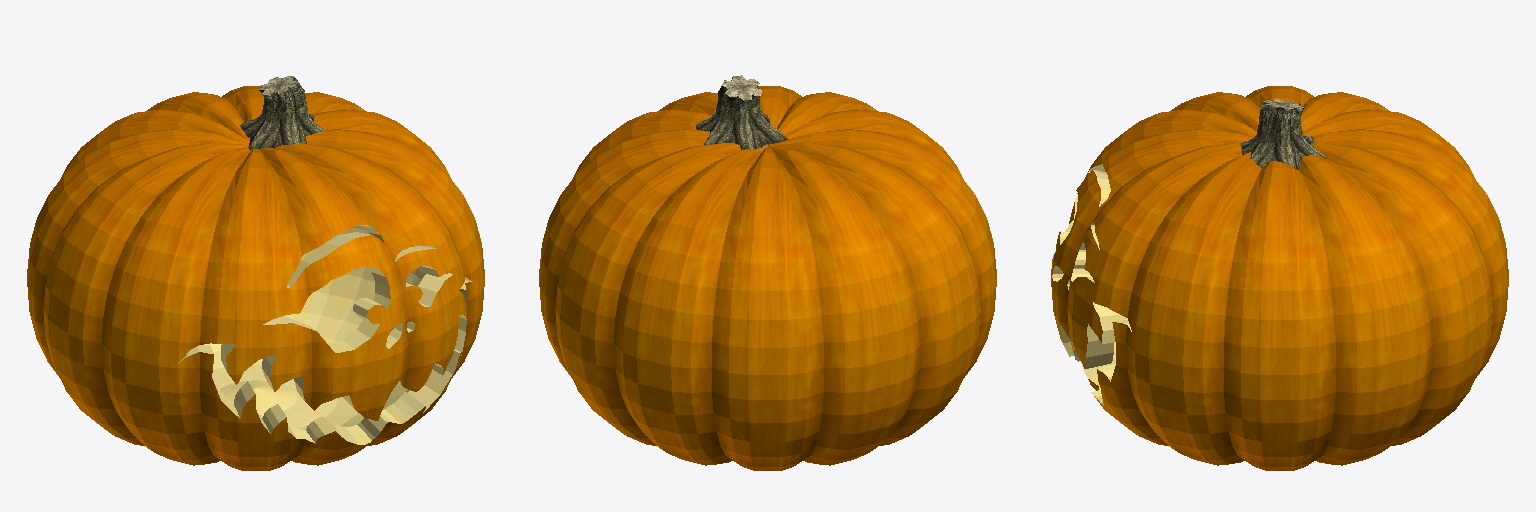
3 views of the same model, side by side, from view 1: azimuth 30°, elevation 25°; view 2: azimuth 150°, elevation 25°; view 3: azimuth 270°, elevation 25° (orthographic).
Visible parts, largest first — view 1: PumpkinC_001, Stalk01_001; view 2: PumpkinC_001, Stalk01_001; view 3: PumpkinC_001, Stalk01_001.
Boxes of the visible parts, box(x1,y1,x2,y2) form: PumpkinC_001: box(27, 86, 484, 470); Stalk01_001: box(240, 76, 324, 150); PumpkinC_001: box(539, 86, 996, 470); Stalk01_001: box(696, 75, 788, 149); PumpkinC_001: box(1051, 86, 1508, 470); Stalk01_001: box(1240, 99, 1326, 169).
Size of the model in its own units: 105 by 84.99 by 105.
Materials: 4 (4 with a texture image).